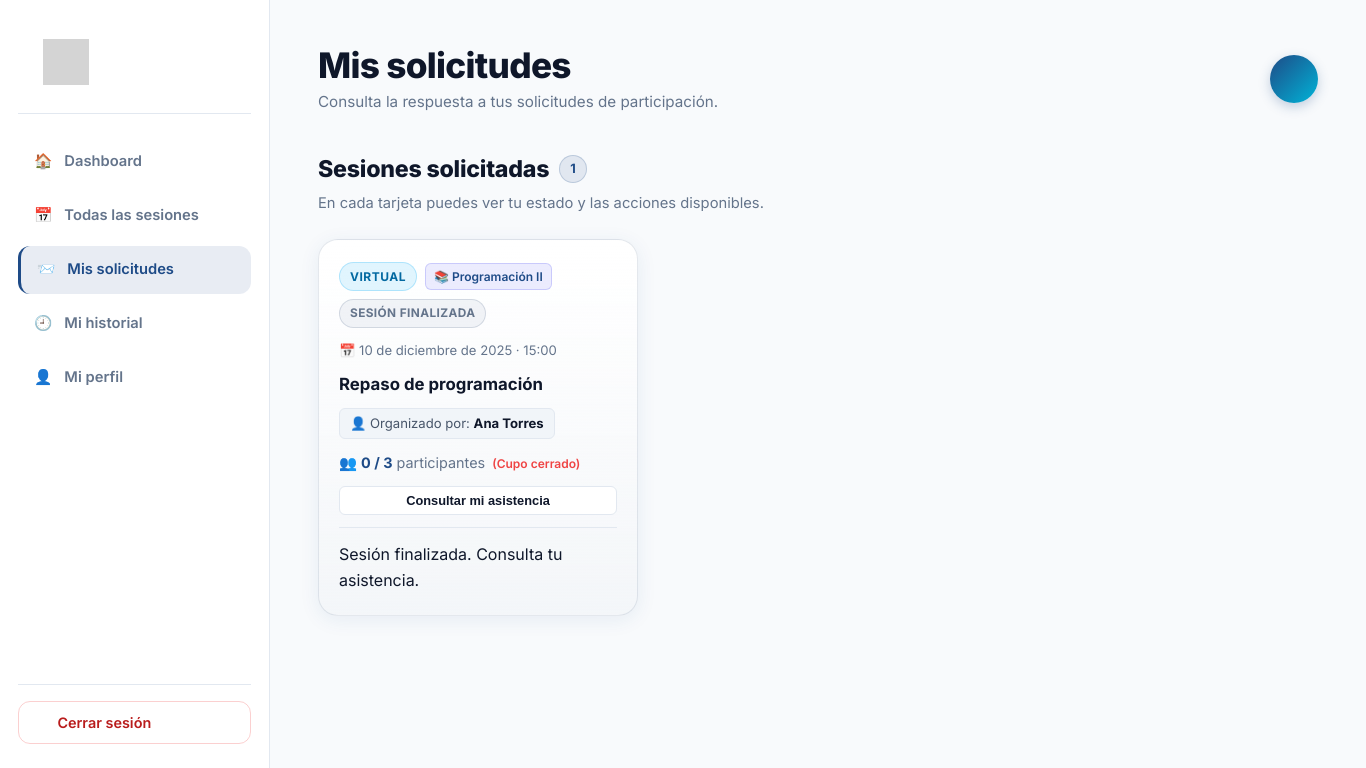
el participante consulta su asistencia y envía una justificación
Click the button "Consultar mi asistencia".
click(478, 501)  # box 339,486 -> 617,515
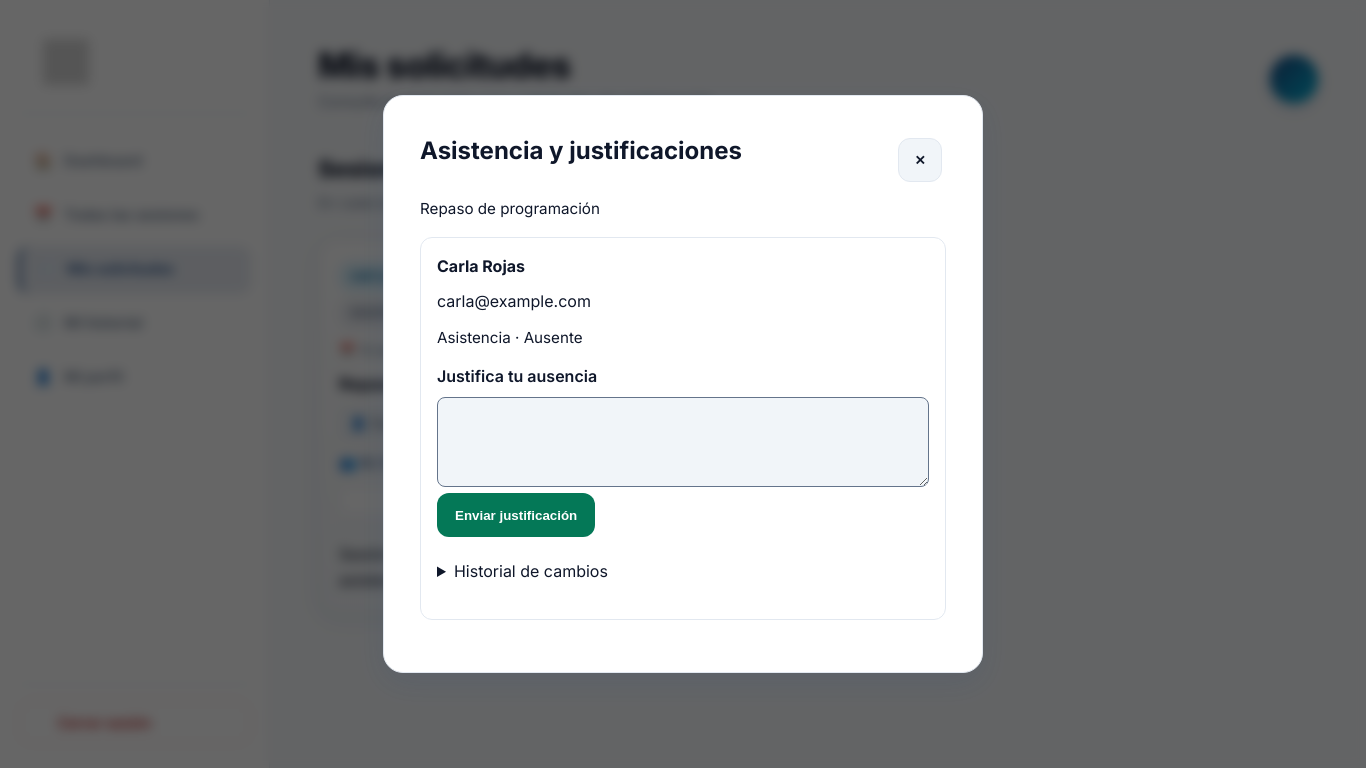
Type "Consulta médica" into the text box labelled "Justifica tu ausencia".
click(683, 442); type("Consulta médica")  # box 437,397 -> 929,487
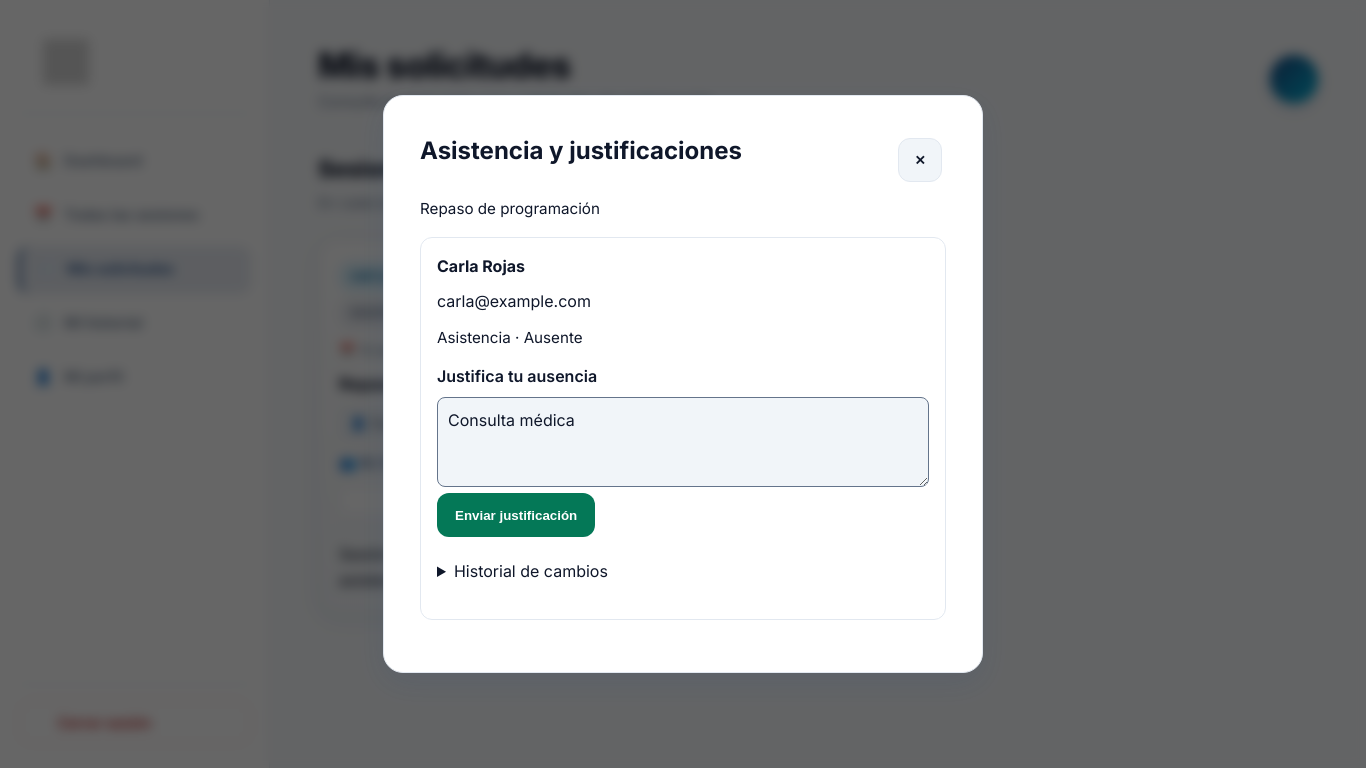
Click the button "Enviar justificación".
click(516, 515)  # box 437,493 -> 595,537
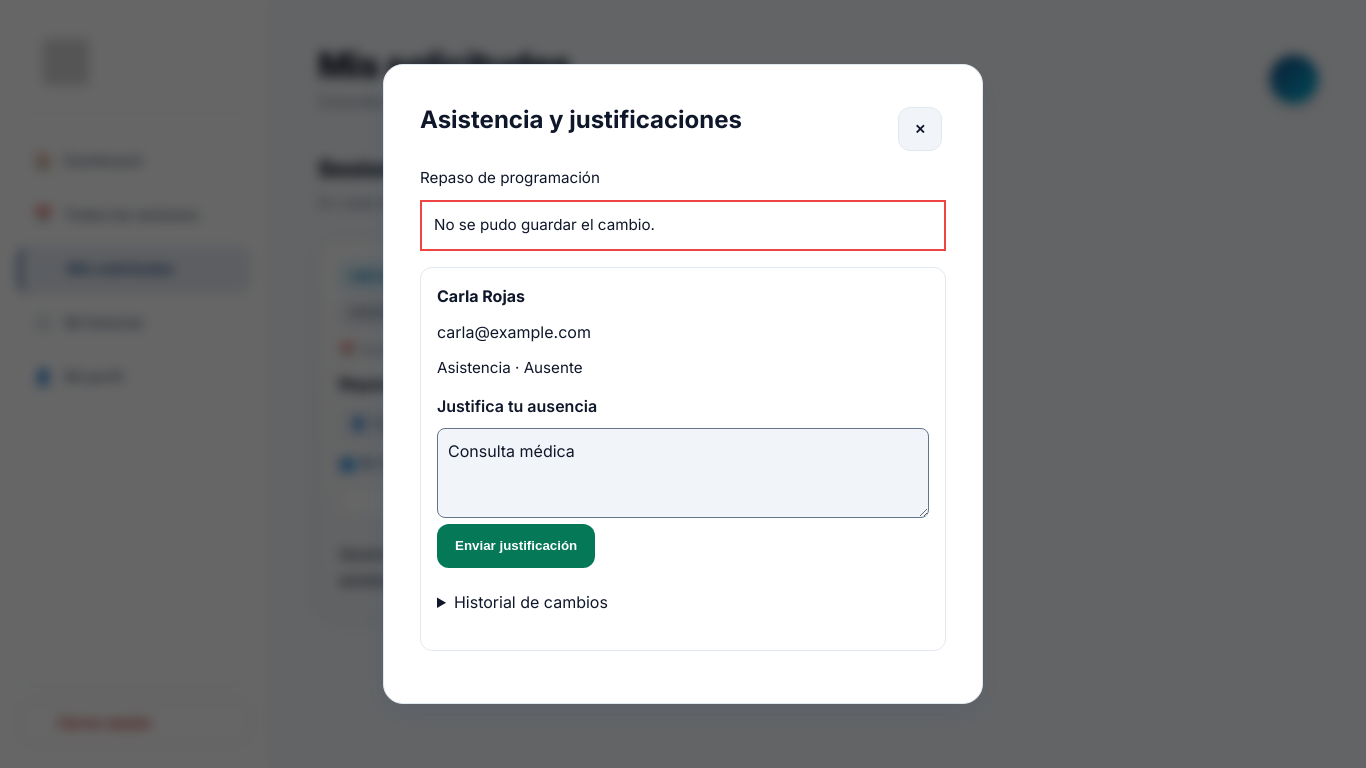
Check: the message "No se pudo guardar el cambio." is shown, box 420,200 -> 946,251
Click the button "Enviar justificación".
click(516, 546)  # box 437,524 -> 595,568
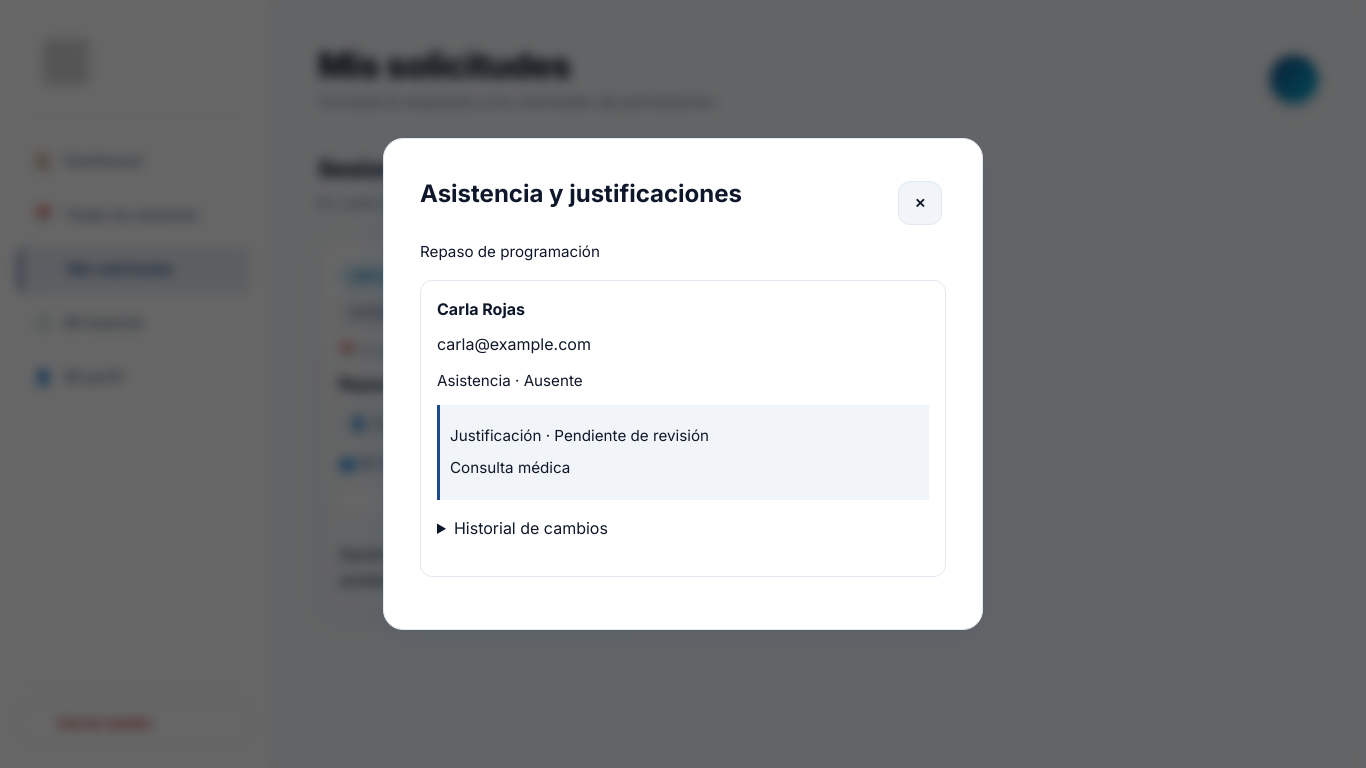
Check: the text "Justificación · Pendiente de revisión" is shown, box 450,426 -> 709,445
Click the button named "Cerrar asistencia".
click(920, 203)  # box 898,181 -> 942,225
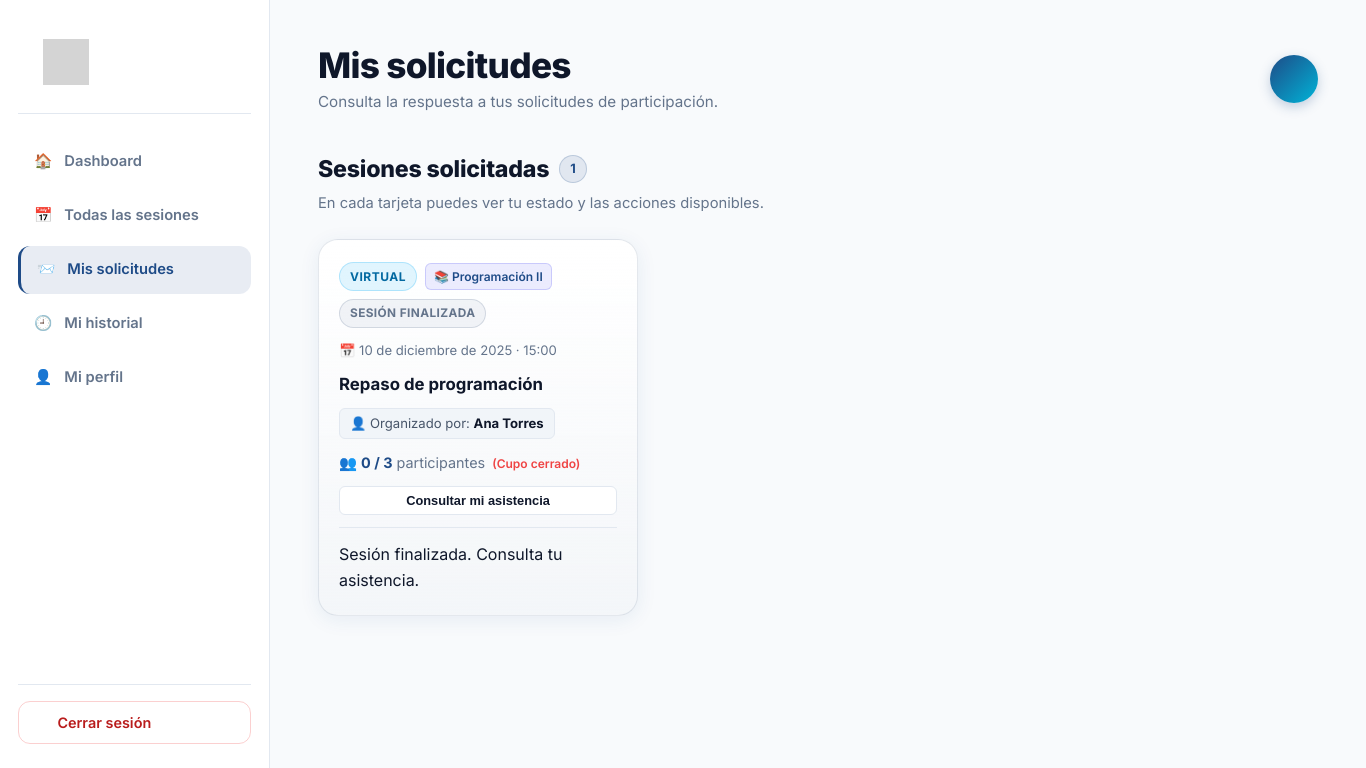
Check: the dialog is gone
